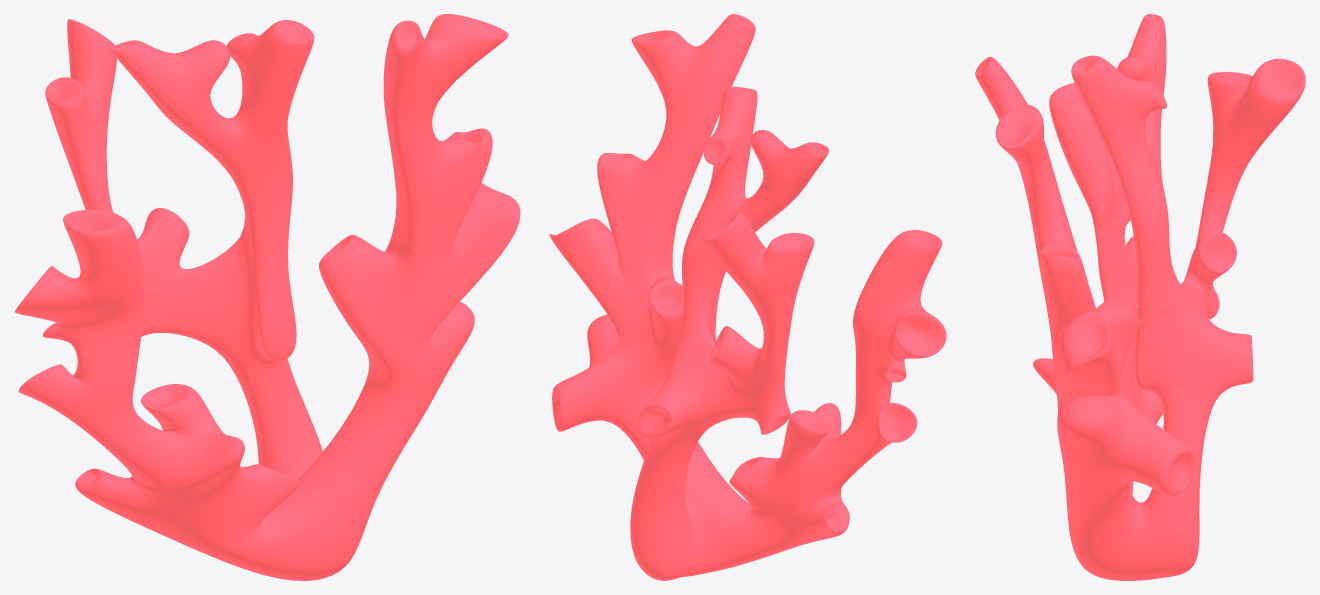
The model's file is coral.fbx.
3 renders of one model, left to right at view 1: azimuth 30°, elevation 25°; view 2: azimuth 150°, elevation 25°; view 3: azimuth 270°, elevation 25°, orthographic. The views are drawn at different scales.
Visible parts, largest first — view 1: Coral; view 2: Coral; view 3: Coral.
Boxes of the visible parts, bbox=[...] form: Coral: bbox=[14, 14, 520, 580]; Coral: bbox=[549, 14, 946, 580]; Coral: bbox=[975, 14, 1305, 580].
Size of the model in its own units: 613 by 725 by 411.
